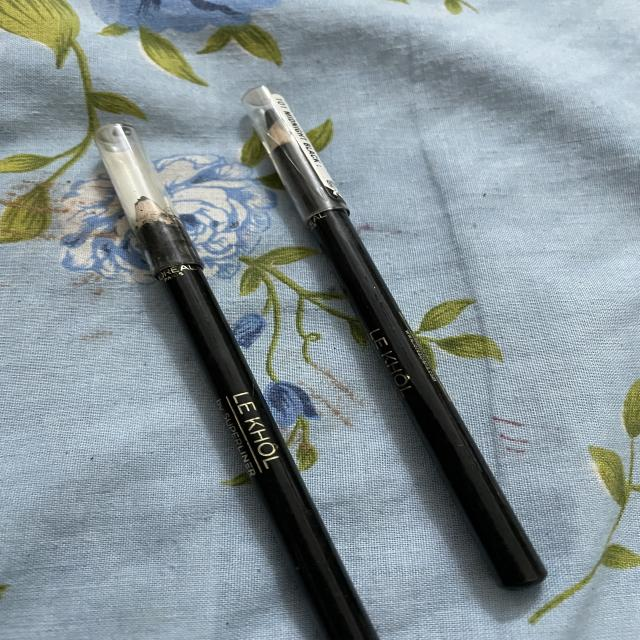eye liner: (64, 79, 582, 640), (226, 70, 424, 305), (73, 108, 233, 316)
